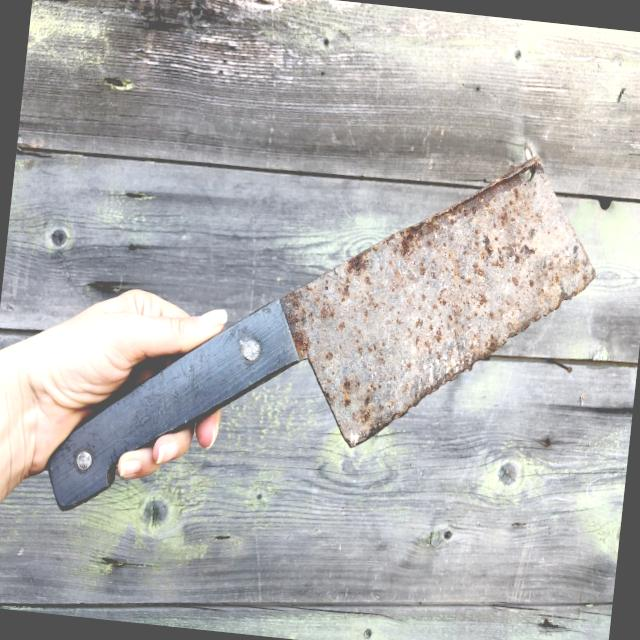cleaver: (0, 115, 605, 556)
